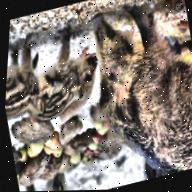boar: (77, 2, 192, 188), (2, 35, 109, 150)
